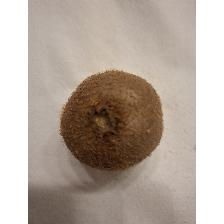Kiwi: (58, 70, 166, 174)
